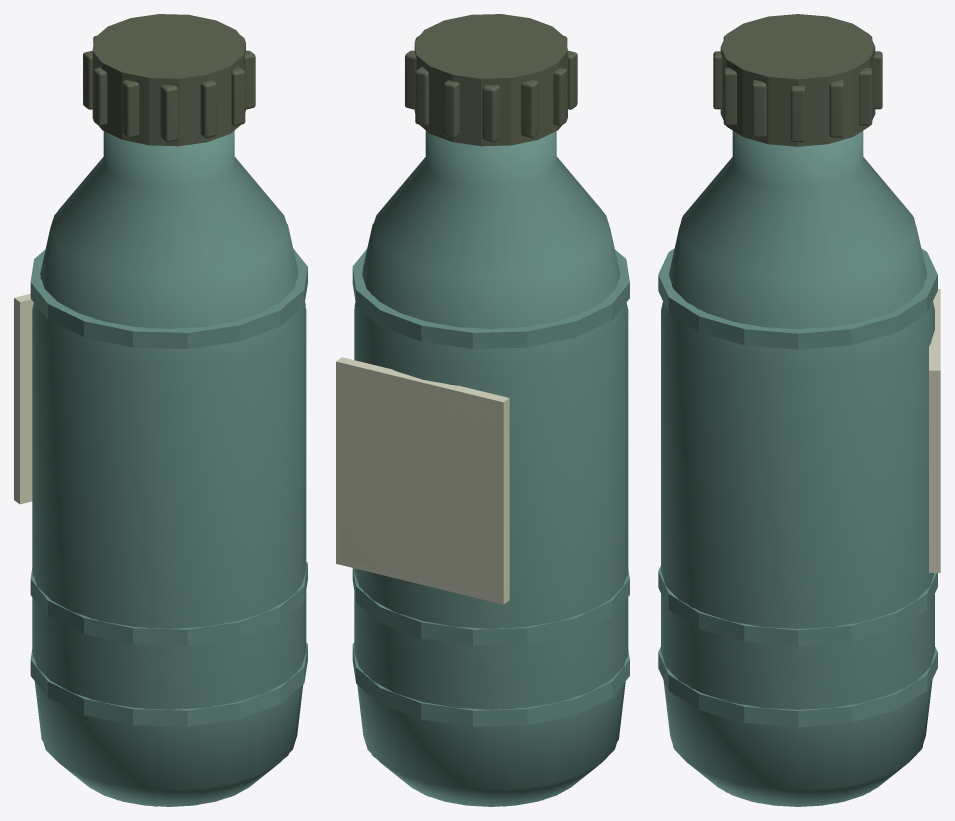
File: WaterBottle.glb
The picture shows the model from 3 angles, left to right: view 1: azimuth 30°, elevation 25°; view 2: azimuth 150°, elevation 25°; view 3: azimuth 270°, elevation 25°; orthographic projection.
Visible parts, largest first — view 1: LOD0_SupplyBottle, LOD1_SupplyBottle, LOD0_GearStrap, LOD1_GearStrap, LOD1_SupplyLabel, LOD0_SupplyLabel; view 2: LOD0_SupplyBottle, LOD0_SupplyLabel, LOD0_GearStrap, LOD1_SupplyLabel, LOD1_SupplyBottle, LOD1_GearStrap; view 3: LOD0_SupplyBottle, LOD1_SupplyBottle, LOD0_GearStrap, LOD1_GearStrap, LOD1_SupplyLabel.
Boxes of the visible parts, bbox=[...] form: LOD0_SupplyBottle: bbox=[30, 130, 307, 806]; LOD1_SupplyBottle: bbox=[32, 131, 305, 806]; LOD0_GearStrap: bbox=[83, 14, 255, 146]; LOD1_GearStrap: bbox=[95, 15, 243, 77]; LOD1_SupplyLabel: bbox=[14, 294, 33, 504]; LOD0_SupplyLabel: bbox=[25, 304, 33, 495]; LOD0_SupplyBottle: bbox=[352, 130, 629, 806]; LOD0_SupplyLabel: bbox=[341, 368, 498, 597]; LOD0_GearStrap: bbox=[405, 14, 577, 146]; LOD1_SupplyLabel: bbox=[336, 357, 509, 604]; LOD1_SupplyBottle: bbox=[354, 131, 627, 806]; LOD1_GearStrap: bbox=[416, 15, 565, 77]; LOD0_SupplyBottle: bbox=[658, 131, 937, 806]; LOD1_SupplyBottle: bbox=[658, 132, 936, 803]; LOD0_GearStrap: bbox=[713, 14, 882, 146]; LOD1_GearStrap: bbox=[721, 14, 873, 79]; LOD1_SupplyLabel: bbox=[929, 289, 940, 572].
Bounding box in the file's own units: 0.094 × 0.2675 × 0.095.
